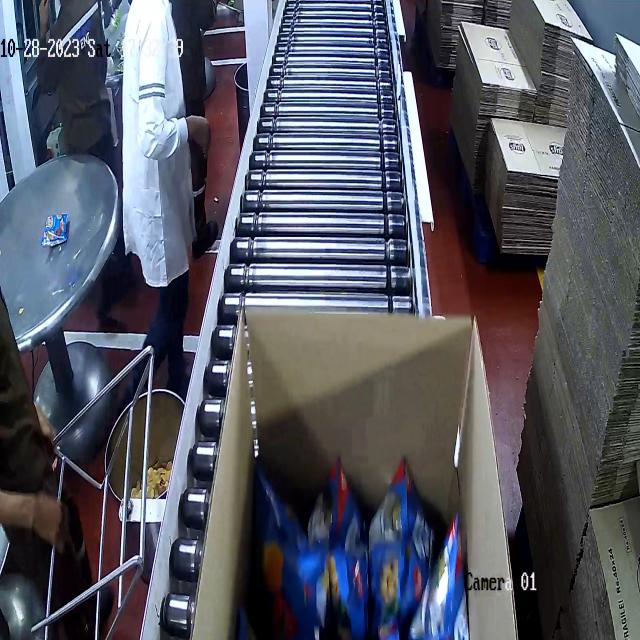PAPRIKA: (240, 433, 480, 635)
